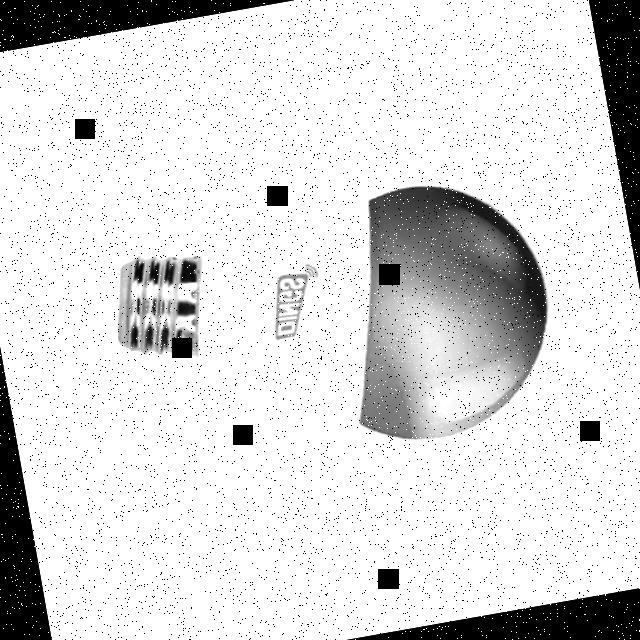light_bulb: (70, 128, 607, 514)
